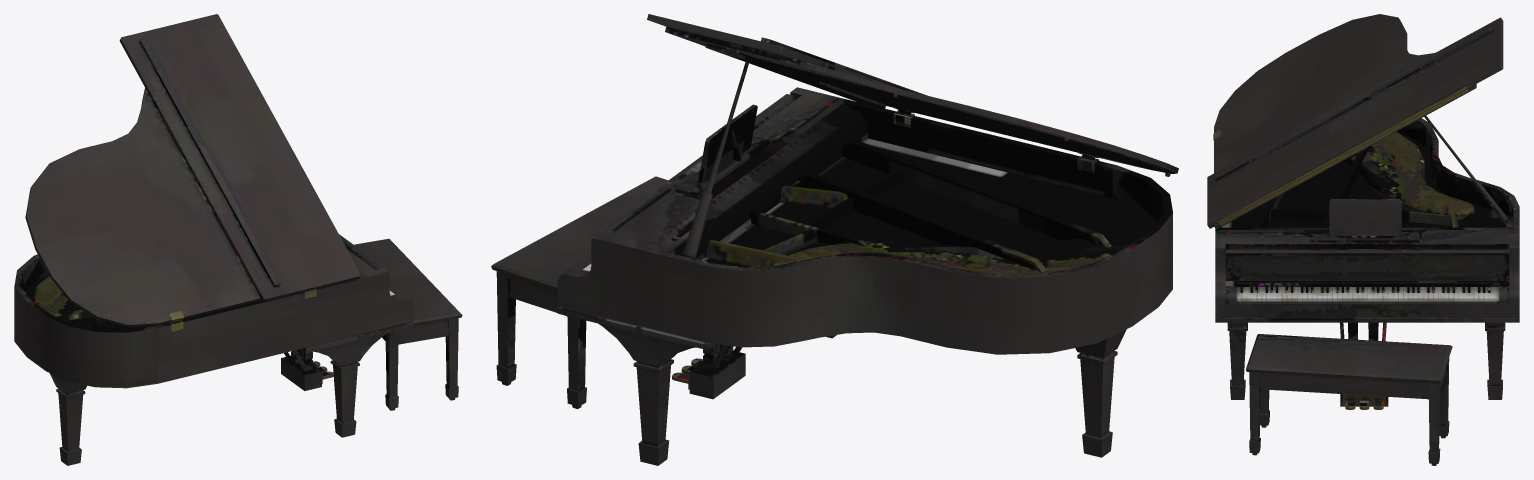
3 renders of one model, left to right at view 1: azimuth 30°, elevation 25°; view 2: azimuth 150°, elevation 25°; view 3: azimuth 270°, elevation 25°, orthographic. The views are drawn at different scales.
Parts seen in each view (by area): view 1: body0_model0_lod0_mesh0, body0_model0_lod0_mesh1; view 2: body0_model0_lod0_mesh0, body0_model0_lod0_mesh1; view 3: body0_model0_lod0_mesh0, body0_model0_lod0_mesh1.
Boxes of the visible parts, left/top/right/bottom form: body0_model0_lod0_mesh0: left=14, top=14, right=462, bottom=465; body0_model0_lod0_mesh1: left=32, top=276, right=333, bottom=383; body0_model0_lod0_mesh0: left=491, top=14, right=1178, bottom=465; body0_model0_lod0_mesh1: left=672, top=107, right=1137, bottom=389; body0_model0_lod0_mesh0: left=1207, top=14, right=1519, bottom=465; body0_model0_lod0_mesh1: left=1213, top=86, right=1508, bottom=409.
Bounding box in the file's own units: 153 × 115 × 98.21.
3 materials, 3 textured.
